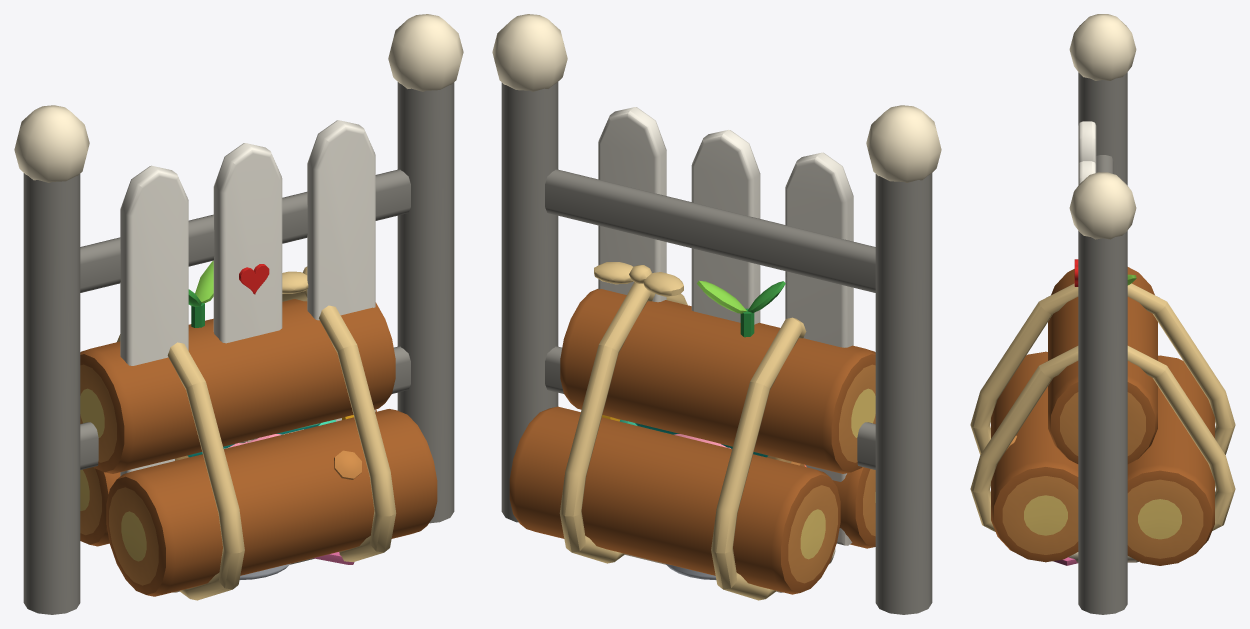
Rendered from items_maker-meadow.glb.
3 views of the same model, side by side, from view 1: azimuth 30°, elevation 25°; view 2: azimuth 150°, elevation 25°; view 3: azimuth 270°, elevation 25° (orthographic). The views are drawn at different scales.
Parts seen in each view (by area): view 1: mak-fence, mak-wood; view 2: mak-fence, mak-wood; view 3: mak-wood, mak-fence.
Boxes of the visible parts, x1,y1,x2,y2 form: mak-fence: (14, 14, 463, 614); mak-wood: (80, 261, 437, 600); mak-fence: (492, 14, 941, 614); mak-wood: (509, 262, 875, 600); mak-wood: (970, 267, 1235, 565); mak-fence: (1069, 14, 1136, 614).
Bounding box in the file's own units: 0.9827 × 1.06 × 0.594.
